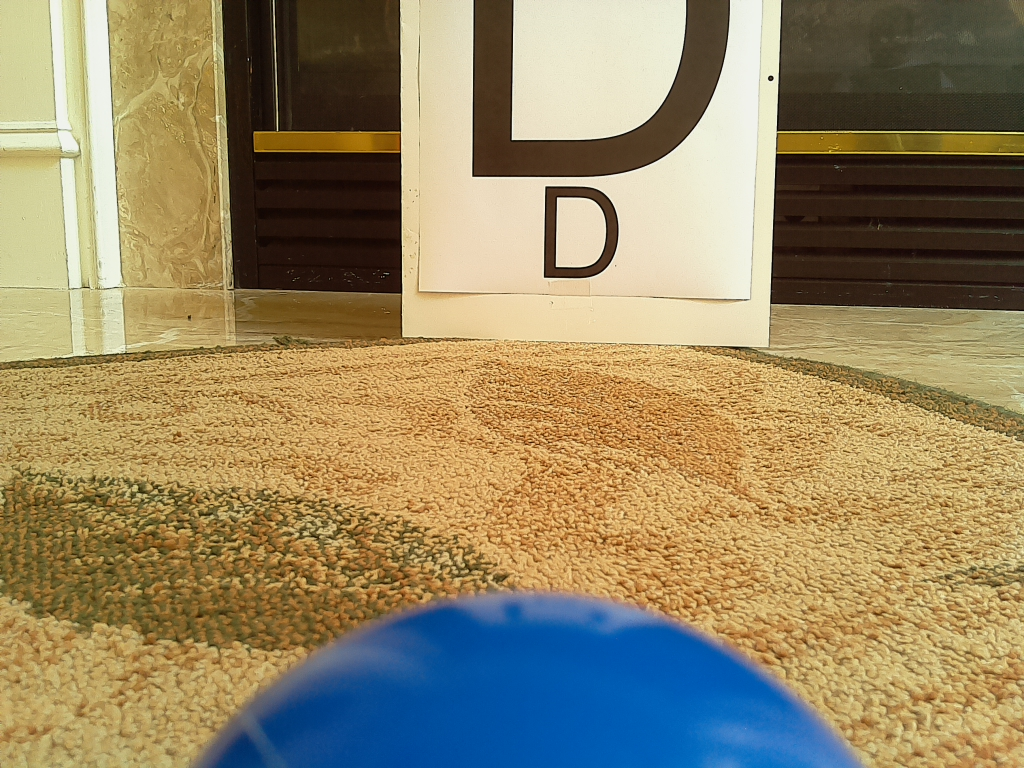letter: (544, 187, 618, 277)
